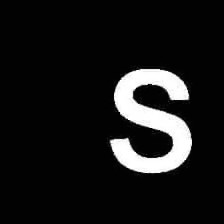LTR_S: (109, 63, 198, 182)
